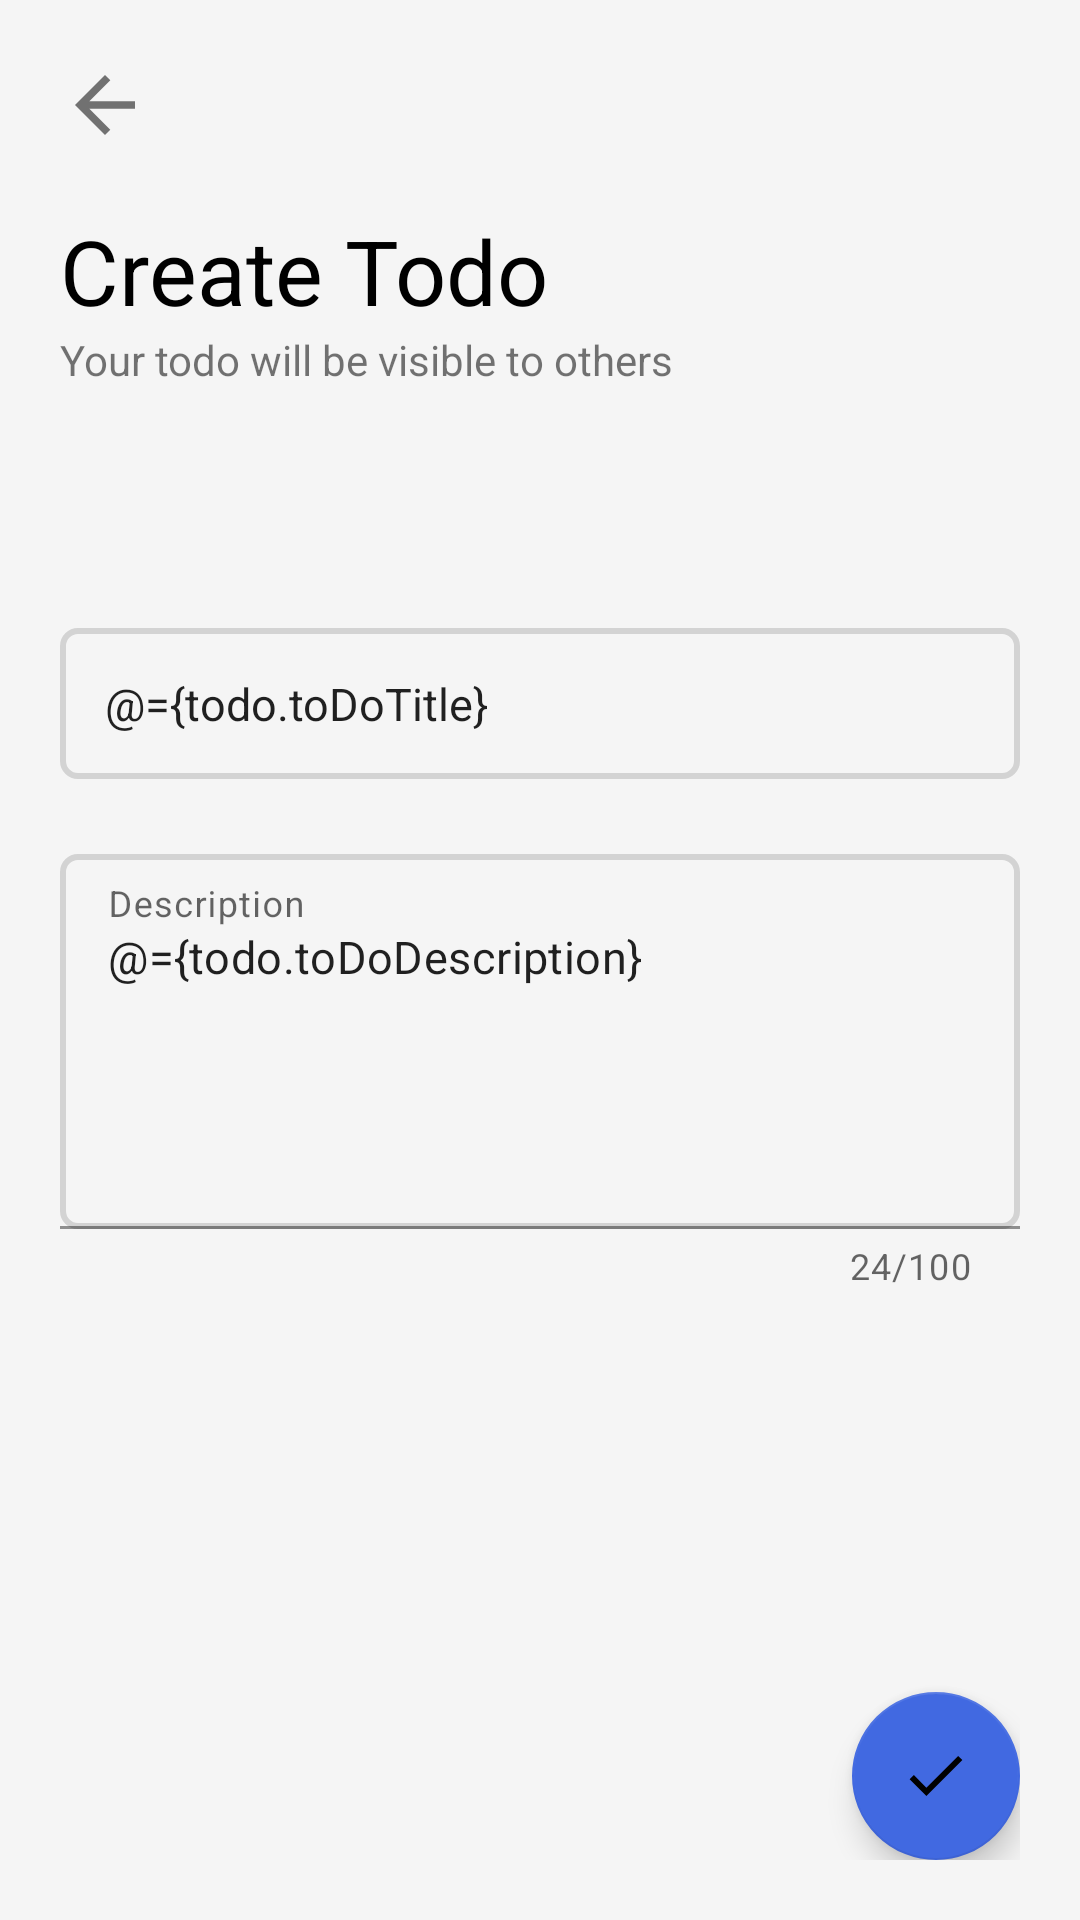

Icons on this 1080×1920 Android screen, each with its box as (x1, y1, x2, y2):
arrow back: (75, 75, 135, 135)
